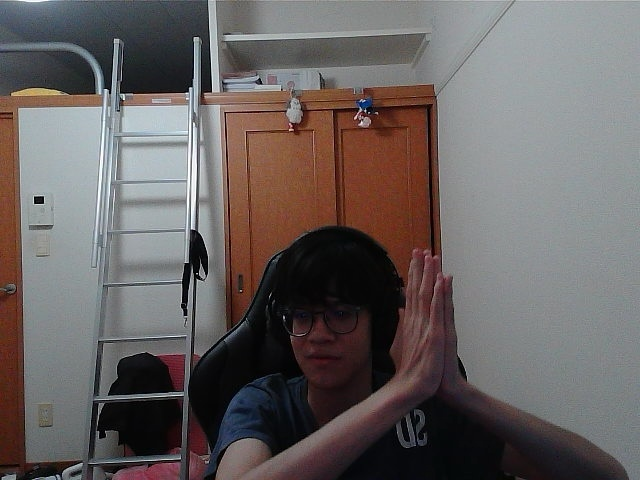pray: (398, 253, 441, 375)
